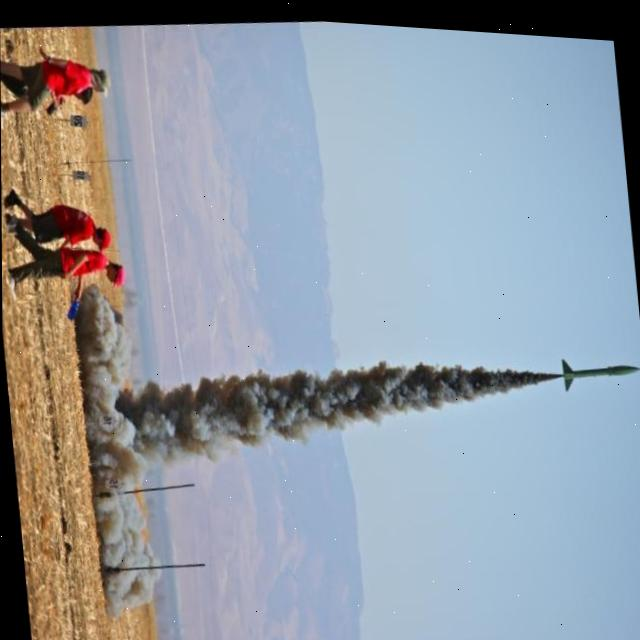missile: (536, 339, 640, 389)
